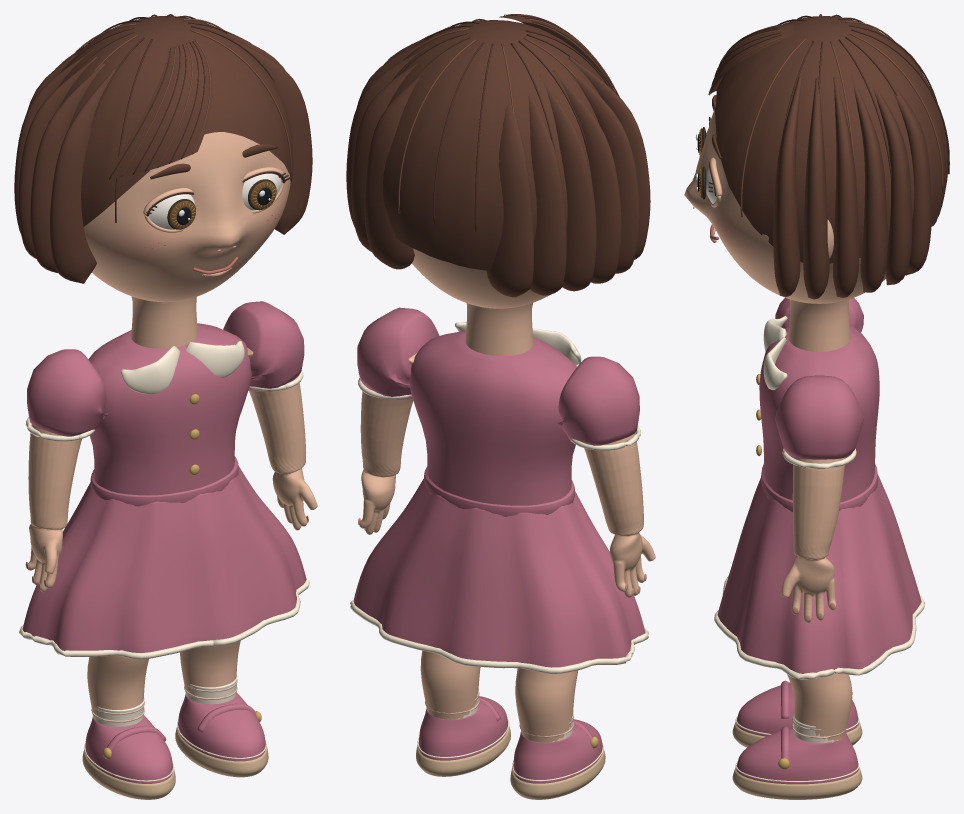
File: girl.glb
The picture shows the model from 3 angles, left to right: view 1: azimuth 30°, elevation 25°; view 2: azimuth 150°, elevation 25°; view 3: azimuth 270°, elevation 25°; orthographic projection.
Parts seen in each view (by area): view 1: Draped skirt, Sculpted face, Tailored bodice, Sculpted hair cap, Swept sculpted fringe, Soft hand with fingers, Flowing hair lock, Gathered sleeve, Soft hand with fingers.001, Gathered sleeve.001, Shoe upper.004, Shoe upper (+16 smaller); view 2: Draped skirt, Sculpted hair cap, Tailored bodice, Soft hand with fingers, Gathered sleeve, Flowing hair lock.005, Flowing hair lock.004, Soft hand with fingers.001, Flowing hair lock.003, Gathered sleeve.001, Flowing hair lock.002, Flowing hair lock.011 (+16 smaller); view 3: Sculpted hair cap, Draped skirt, Tailored bodice, Soft hand with fingers.001, Gathered sleeve.001, Sculpted face, Shoe upper.004, Flowing hair lock.006, Flowing hair lock.007, Flowing hair lock.008, Flowing hair lock.009, Flowing hair lock.010 (+13 smaller).
Part boxes in pixels (left/top/right/bottom): Draped skirt: left=22, top=466, right=306, bottom=652; Sculpted face: left=84, top=132, right=290, bottom=302; Tailored bodice: left=88, top=323, right=251, bottom=495; Sculpted hair cap: left=58, top=16, right=293, bottom=226; Swept sculpted fringe: left=104, top=33, right=212, bottom=180; Soft hand with fingers: left=27, top=424, right=81, bottom=592; Flowing hair lock: left=50, top=69, right=115, bottom=283; Gathered sleeve: left=27, top=349, right=107, bottom=436; Soft hand with fingers.001: left=247, top=347, right=317, bottom=530; Gathered sleeve.001: left=223, top=301, right=304, bottom=391; Shoe upper.004: left=178, top=692, right=265, bottom=761; Shoe upper: left=85, top=715, right=172, bottom=783; Draped skirt: left=353, top=478, right=645, bottom=667; Sculpted hair cap: left=383, top=20, right=606, bottom=271; Tailored bodice: left=409, top=330, right=576, bottom=505; Soft hand with fingers: left=584, top=433, right=655, bottom=597; Gathered sleeve: left=557, top=356, right=639, bottom=445; Flowing hair lock.005: left=486, top=101, right=533, bottom=297; Flowing hair lock.004: left=528, top=90, right=566, bottom=295; Soft hand with fingers.001: left=359, top=353, right=416, bottom=534; Flowing hair lock.003: left=539, top=74, right=596, bottom=291; Gathered sleeve.001: left=357, top=307, right=439, bottom=400; Flowing hair lock.002: left=552, top=69, right=621, bottom=283; Flowing hair lock.011: left=364, top=76, right=419, bottom=269; Sculpted hair cap: left=715, top=16, right=948, bottom=263; Draped skirt: left=717, top=475, right=921, bottom=673; Tailored bodice: left=759, top=325, right=879, bottom=502; Soft hand with fingers.001: left=781, top=457, right=845, bottom=622; Gathered sleeve.001: left=775, top=375, right=863, bottom=459; Sculpted face: left=684, top=108, right=886, bottom=303; Shoe upper.004: left=736, top=727, right=858, bottom=784; Flowing hair lock.006: left=773, top=76, right=802, bottom=296; Flowing hair lock.007: left=803, top=78, right=829, bottom=299; Flowing hair lock.008: left=833, top=77, right=859, bottom=297; Flowing hair lock.009: left=851, top=74, right=887, bottom=292; Flowing hair lock.010: left=871, top=80, right=912, bottom=285.
Bounding box in the file's own units: 1.29 × 3.31 × 1.08.
